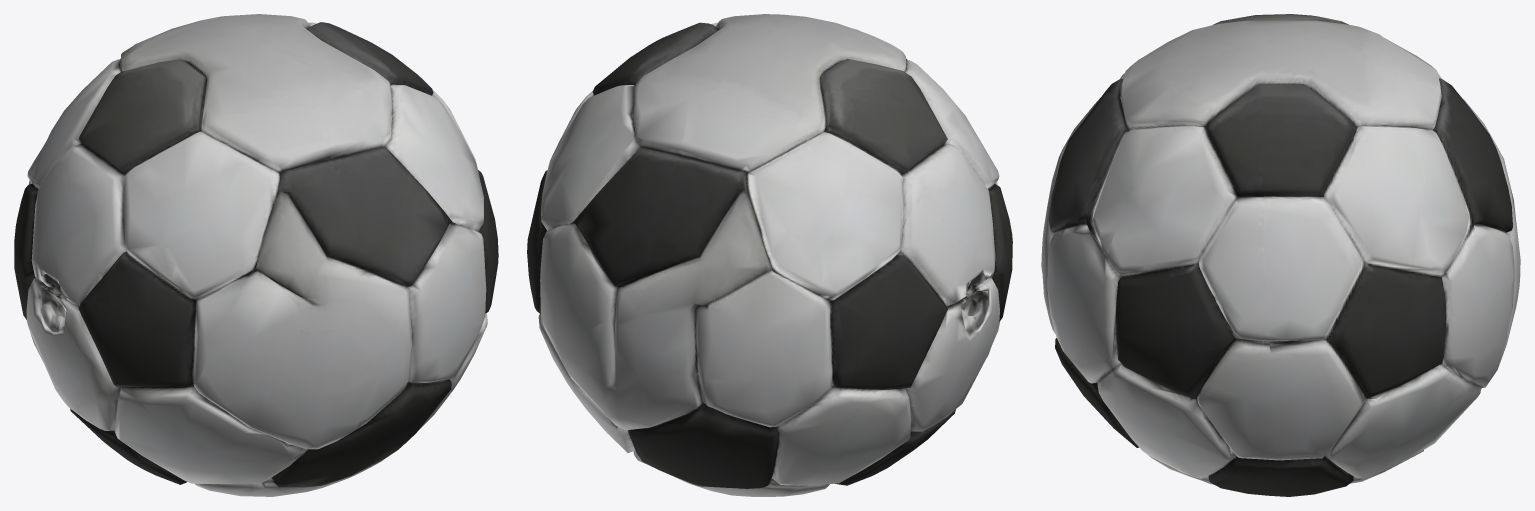
File: ball.glb
The picture shows the model from 3 angles, left to right: view 1: azimuth 30°, elevation 25°; view 2: azimuth 150°, elevation 25°; view 3: azimuth 270°, elevation 25°; orthographic projection.
Parts seen in each view (by area): view 1: node_5da46feb-5e77-48c7-8b46-f183652dfc8d; view 2: node_5da46feb-5e77-48c7-8b46-f183652dfc8d; view 3: node_5da46feb-5e77-48c7-8b46-f183652dfc8d.
Boxes of the visible parts, x1=… form: node_5da46feb-5e77-48c7-8b46-f183652dfc8d: x1=14, y1=14, x2=498, y2=496; node_5da46feb-5e77-48c7-8b46-f183652dfc8d: x1=527, y1=14, x2=1012, y2=496; node_5da46feb-5e77-48c7-8b46-f183652dfc8d: x1=1041, y1=14, x2=1520, y2=496.
Size of the model in its own units: 0.9928 by 0.9959 by 0.9993.
Materials: 1 (1 with a texture image).
